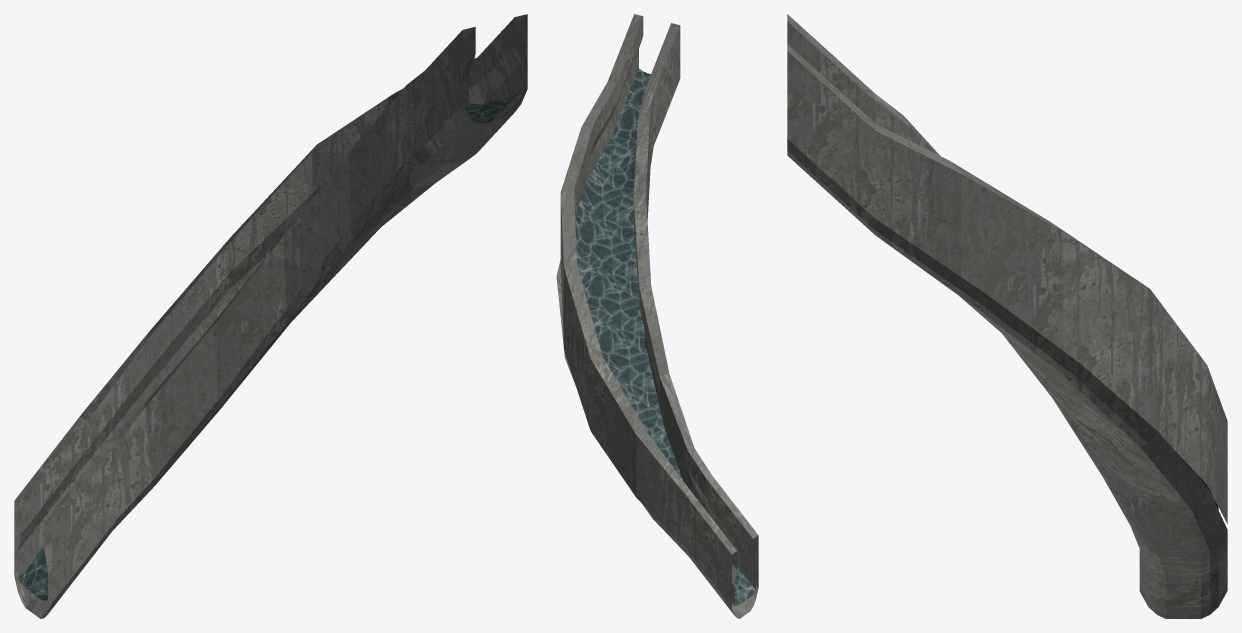
The model's file is Dragonfly_IceSlide_Curved_Left.fbx.
3 views of the same model, side by side, from view 1: azimuth 30°, elevation 25°; view 2: azimuth 150°, elevation 25°; view 3: azimuth 270°, elevation 25° (orthographic). The views are drawn at different scales.
Visible parts, largest first — view 1: 90DegLeft; view 2: 90DegLeft; view 3: 90DegLeft.
Boxes of the visible parts, x1=… form: 90DegLeft: x1=14, y1=14, x2=527, y2=618; 90DegLeft: x1=556, y1=14, x2=758, y2=618; 90DegLeft: x1=787, y1=14, x2=1227, y2=618.
Size of the model in its own units: 50 by 94.5 by 50.
